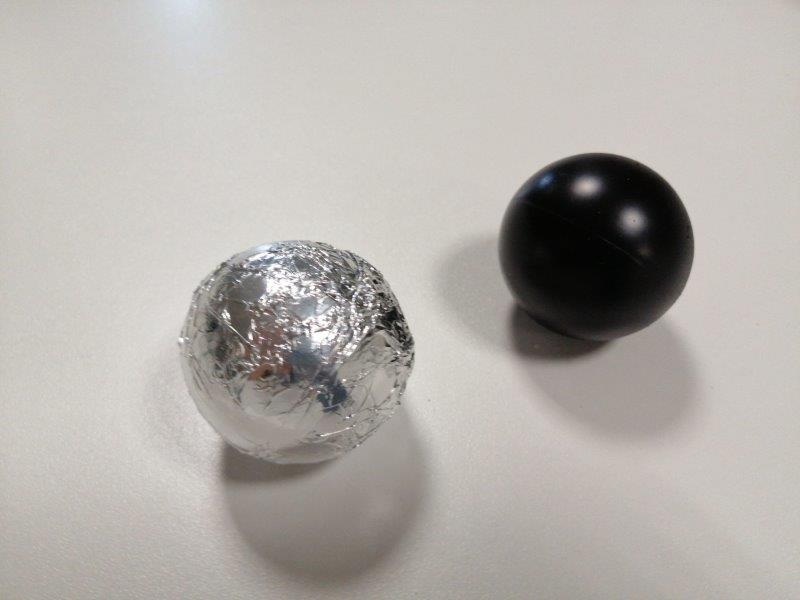bianca: (181, 240, 415, 466)
nera: (495, 153, 696, 343)
